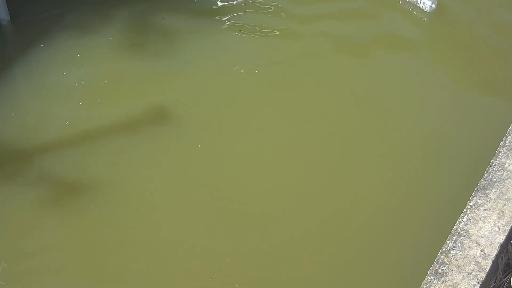plastic: (395, 0, 445, 17)
